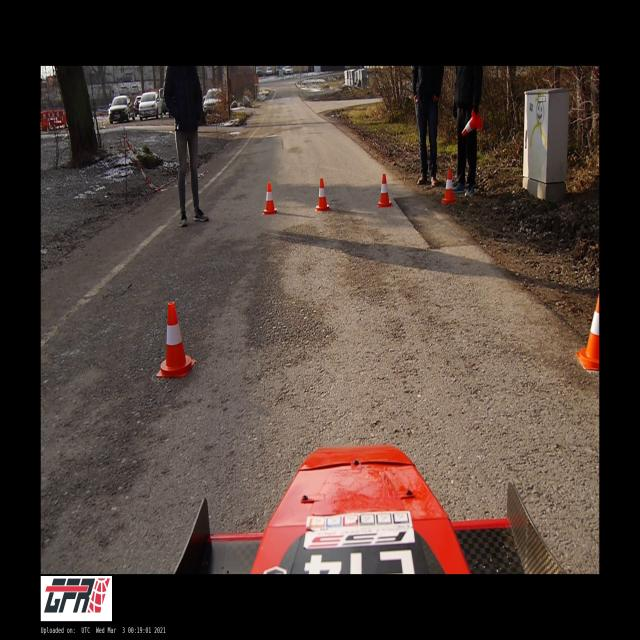orange_cone: (156, 302, 196, 376), (576, 292, 600, 370), (462, 109, 482, 136), (441, 170, 457, 203), (377, 174, 392, 207), (263, 183, 278, 214), (316, 178, 330, 211)
